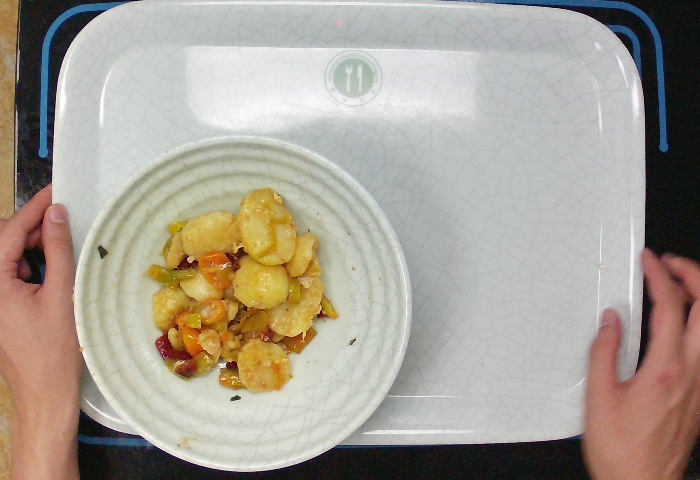JYsf-Da_Tang_Wan: (64, 114, 424, 475)
